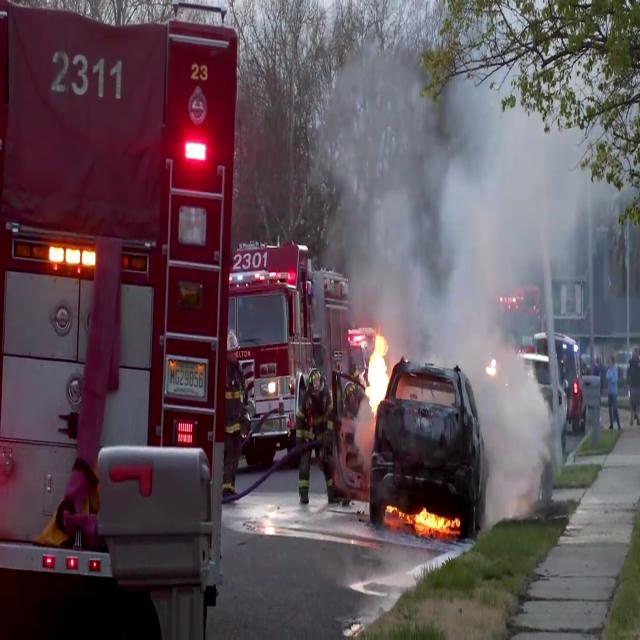Fire: (351, 325, 394, 414), (380, 500, 458, 535), (363, 326, 393, 414)
Smoke: (317, 30, 635, 350), (476, 346, 564, 530)
